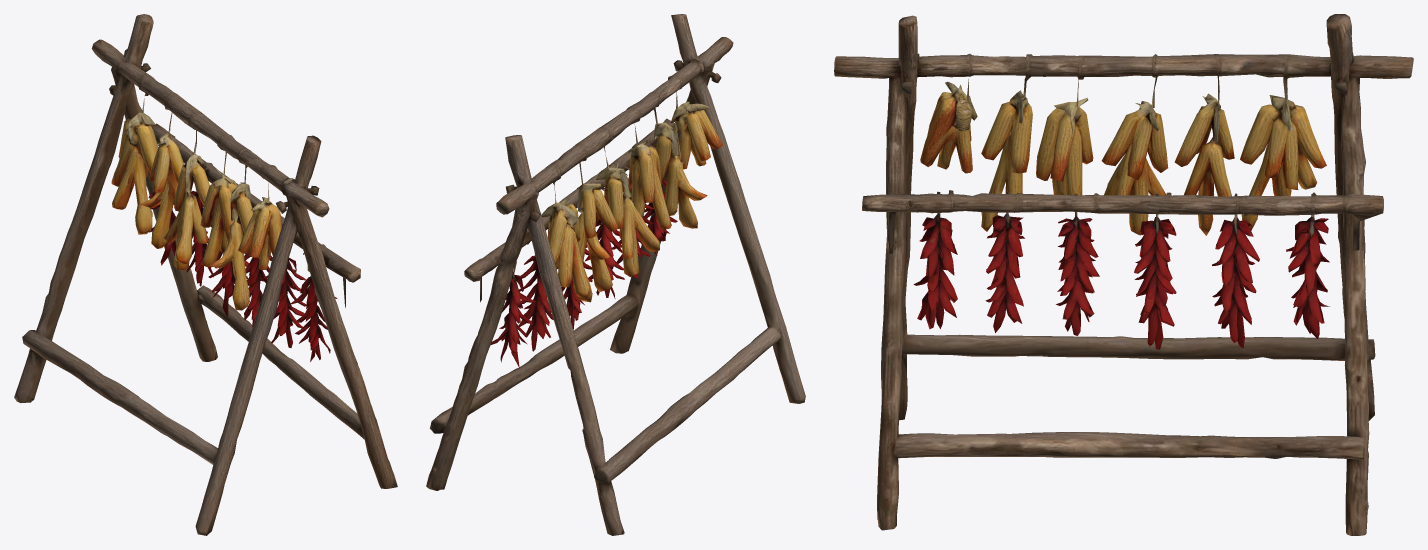
The model's file is v-rack.glb.
The picture shows the model from 3 angles, left to right: view 1: azimuth 30°, elevation 25°; view 2: azimuth 150°, elevation 25°; view 3: azimuth 270°, elevation 25°; orthographic projection. The views are drawn at different scales.
Visible parts, largest first — view 1: tripo_node_d7a039ac-6b0d-4648-92d0-74c9b2a1b51c; view 2: tripo_node_d7a039ac-6b0d-4648-92d0-74c9b2a1b51c; view 3: tripo_node_d7a039ac-6b0d-4648-92d0-74c9b2a1b51c.
Part boxes in pixels (x1,y1,x2,y2): tripo_node_d7a039ac-6b0d-4648-92d0-74c9b2a1b51c: (14, 14, 397, 535); tripo_node_d7a039ac-6b0d-4648-92d0-74c9b2a1b51c: (426, 14, 805, 535); tripo_node_d7a039ac-6b0d-4648-92d0-74c9b2a1b51c: (834, 14, 1413, 535).
Size of the model in its own units: 0.5091 by 0.8978 by 1.
Materials: 1 (1 with a texture image).
